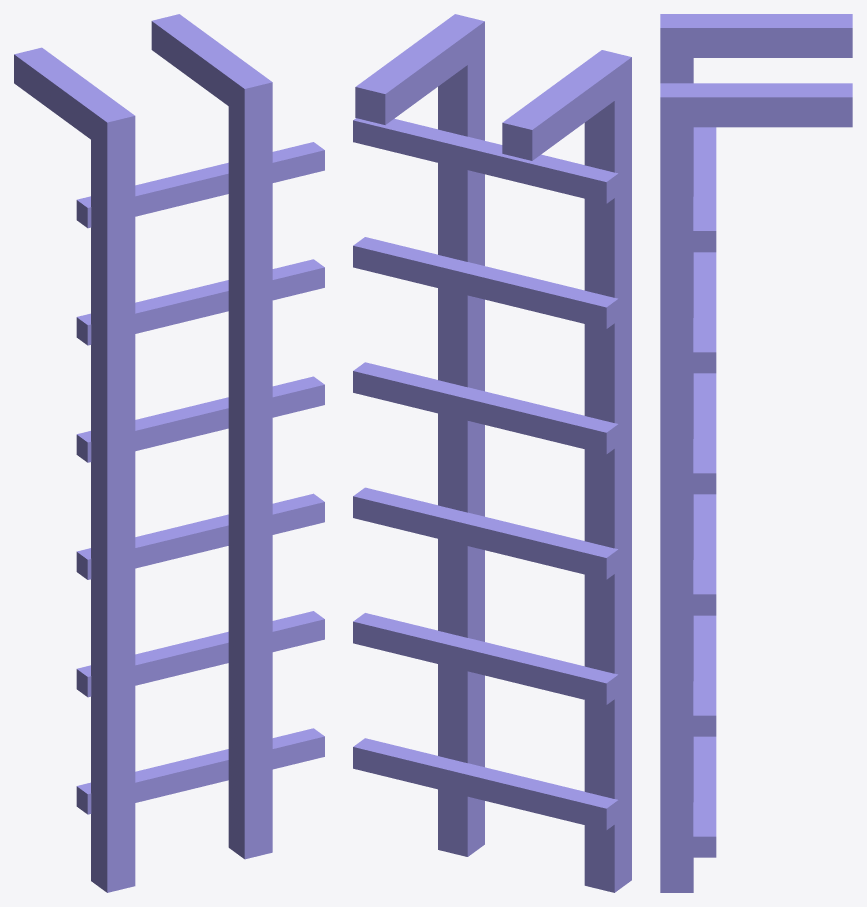
The model's file is Building_018_f.fbx.
3 views of the same model, side by side, from view 1: azimuth 30°, elevation 25°; view 2: azimuth 150°, elevation 25°; view 3: azimuth 270°, elevation 25° (orthographic). The views are drawn at different scales.
Parts seen in each view (by area): view 1: Building_018_f; view 2: Building_018_f; view 3: Building_018_f.
Boxes of the visible parts, bbox=[...] form: Building_018_f: bbox=[14, 14, 324, 892]; Building_018_f: bbox=[353, 14, 631, 892]; Building_018_f: bbox=[660, 14, 852, 892].
Bounding box in the file's own units: 2.03 × 6.31 × 1.38.
